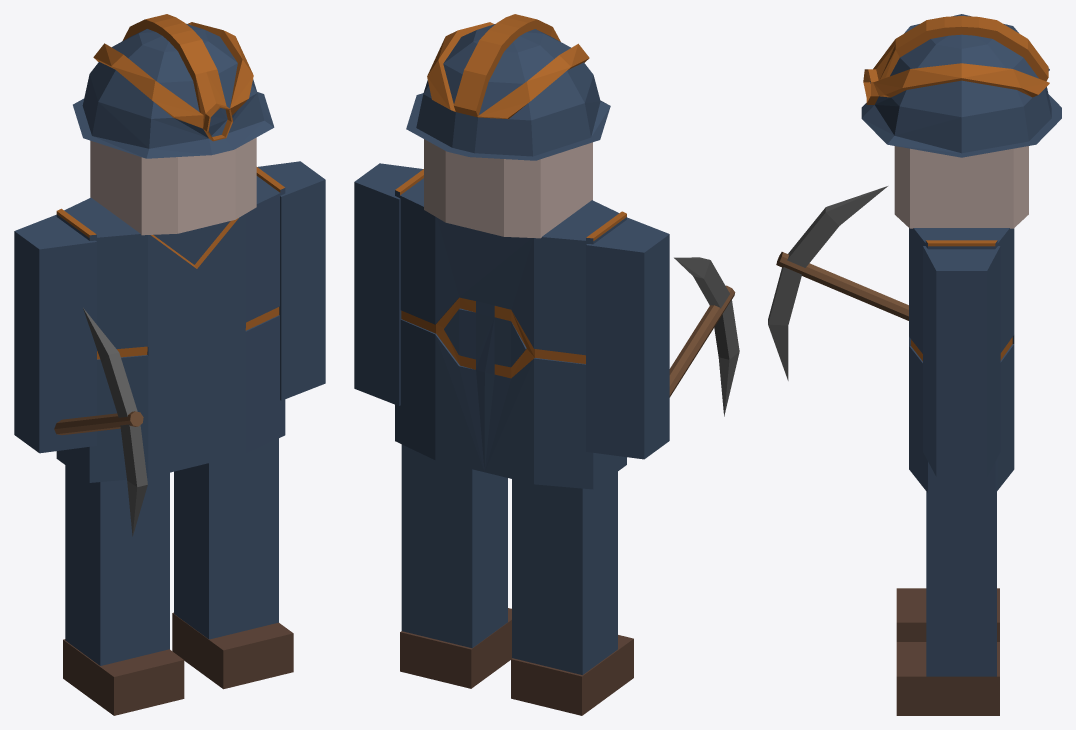
Rendered from miner_final.fbx.
3 renders of one model, left to right at view 1: azimuth 30°, elevation 25°; view 2: azimuth 150°, elevation 25°; view 3: azimuth 270°, elevation 25°, orthographic.
Parts seen in each view (by area): view 1: polySurface69, pCylinder2; view 2: polySurface69, pCylinder2; view 3: polySurface69, pCylinder2.
Part boxes in pixels (x1,y1,x2,y2): polySurface69: (14,14,325,715); pCylinder2: (54,308,147,536); polySurface69: (354,14,669,715); pCylinder2: (669,257,739,416); polySurface69: (861,14,1061,715); pCylinder2: (768,186,908,380).
Bounding box in the file's own units: 88.75 × 191 × 78.17.
